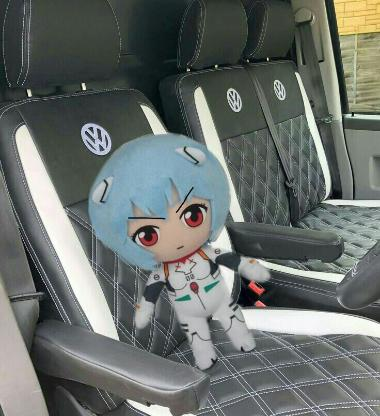rei-plush: (75, 128, 277, 366)
